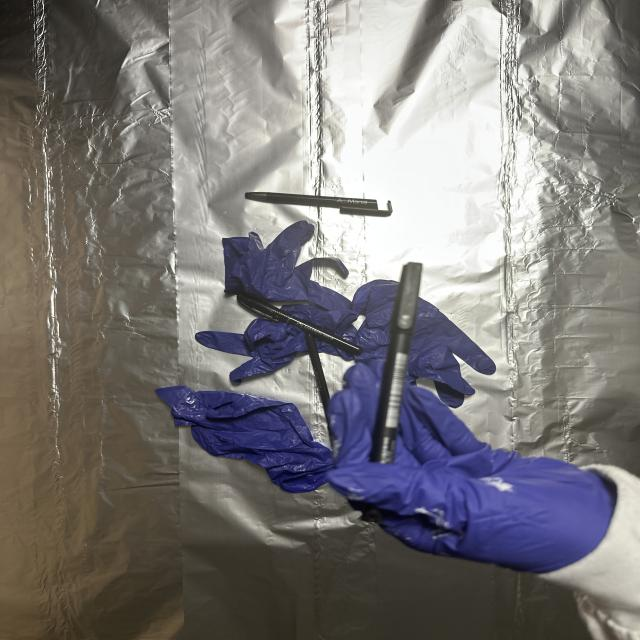gloves_contaminated: (328, 365, 616, 573)
